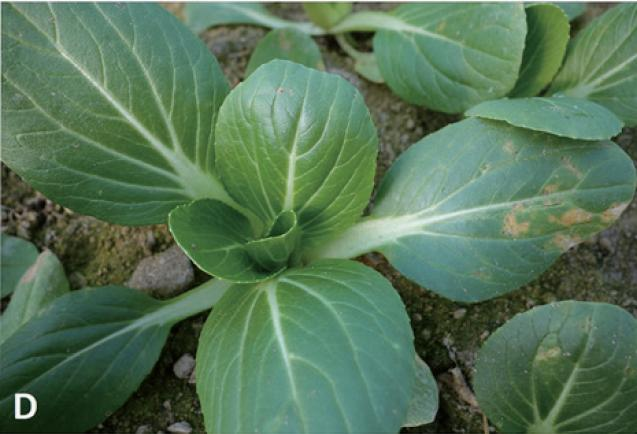Bok-Choy-Diseased: (375, 115, 637, 307), (473, 298, 637, 434), (348, 0, 526, 106)
